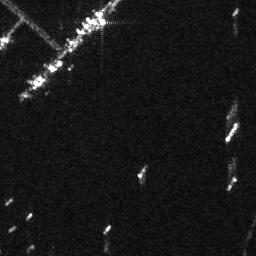ship: (224, 120, 240, 143), (226, 174, 237, 192), (102, 223, 112, 236), (7, 224, 17, 234), (4, 197, 13, 207), (231, 7, 240, 16), (25, 210, 32, 221)
